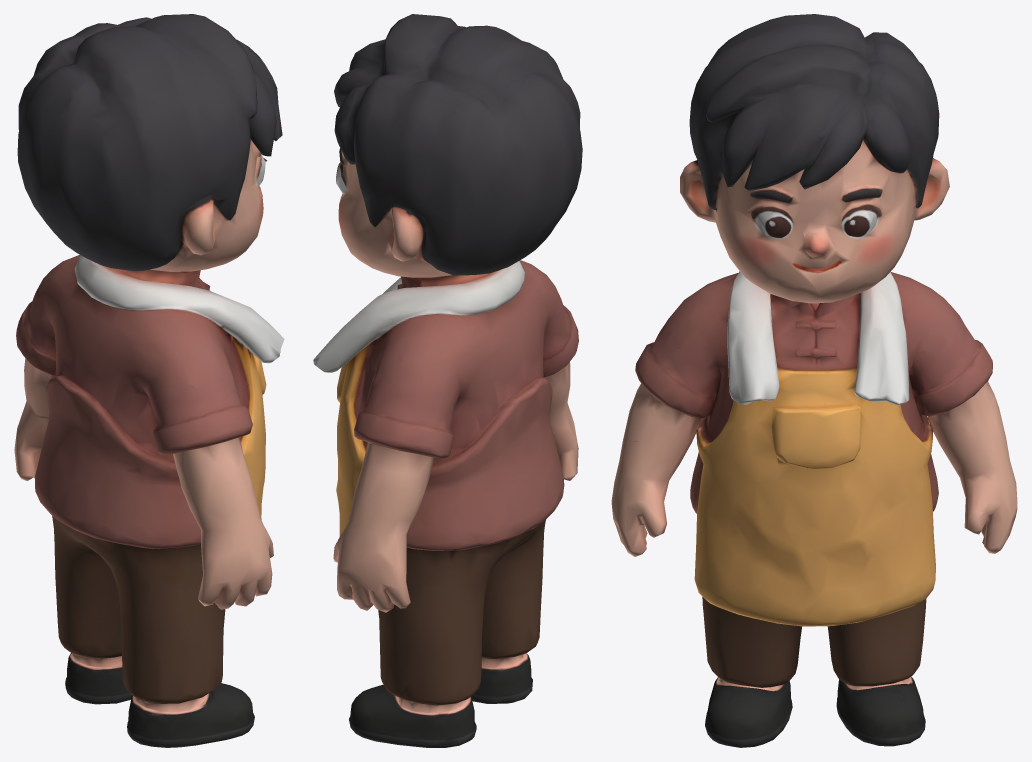
File: s3_staff_cashier.glb
3 views of the same model, side by side, from view 1: azimuth 30°, elevation 25°; view 2: azimuth 150°, elevation 25°; view 3: azimuth 270°, elevation 25° (orthographic).
Visible parts, largest first — view 1: tripo_node_1bb016e2-2475-46d5-883d-ca273d1dbe09; view 2: tripo_node_1bb016e2-2475-46d5-883d-ca273d1dbe09; view 3: tripo_node_1bb016e2-2475-46d5-883d-ca273d1dbe09.
Boxes of the visible parts, x1,y1,x2,y2 form: tripo_node_1bb016e2-2475-46d5-883d-ca273d1dbe09: (14, 14, 284, 747); tripo_node_1bb016e2-2475-46d5-883d-ca273d1dbe09: (313, 14, 582, 747); tripo_node_1bb016e2-2475-46d5-883d-ca273d1dbe09: (611, 14, 1017, 747).
Bounding box in the file's own units: 0.3533 × 1 × 0.5352.
1 material, 1 textured.
